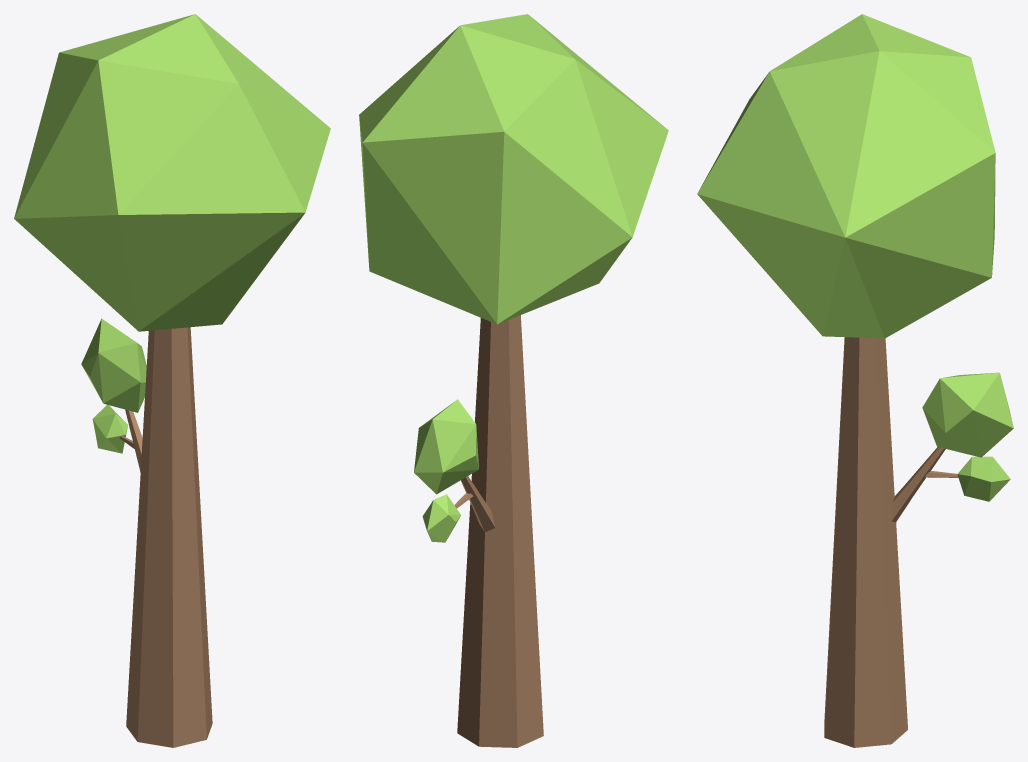
Rendered from Sc_arbol_4 1.fbx.
3 views of the same model, side by side, from view 1: azimuth 30°, elevation 25°; view 2: azimuth 150°, elevation 25°; view 3: azimuth 270°, elevation 25° (orthographic).
Visible parts, largest first — view 1: Cylinder_001; view 2: Cylinder_001; view 3: Cylinder_001.
Part boxes in pixels (x1,y1,x2,y2): Cylinder_001: [14, 14, 330, 747]; Cylinder_001: [359, 14, 668, 747]; Cylinder_001: [697, 14, 1013, 747].
Bounding box in the file's own units: 539 × 1224 × 506.
